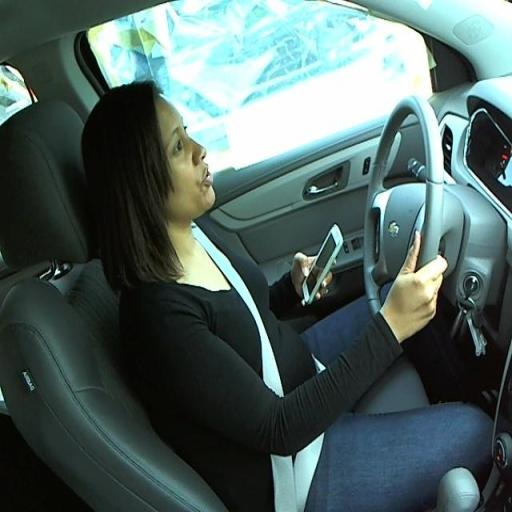texting_phone: (92, 97, 446, 418)
